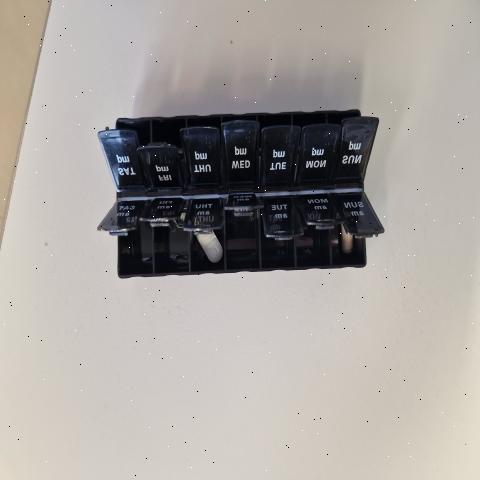Open: (184, 195, 224, 276), (99, 224, 155, 276), (139, 217, 190, 274), (295, 196, 332, 270), (225, 195, 258, 274), (187, 113, 223, 184), (150, 119, 184, 188), (224, 115, 260, 178), (262, 209, 298, 270), (298, 110, 340, 145), (338, 225, 368, 269), (261, 113, 300, 145), (113, 118, 152, 145), (337, 109, 361, 120)
